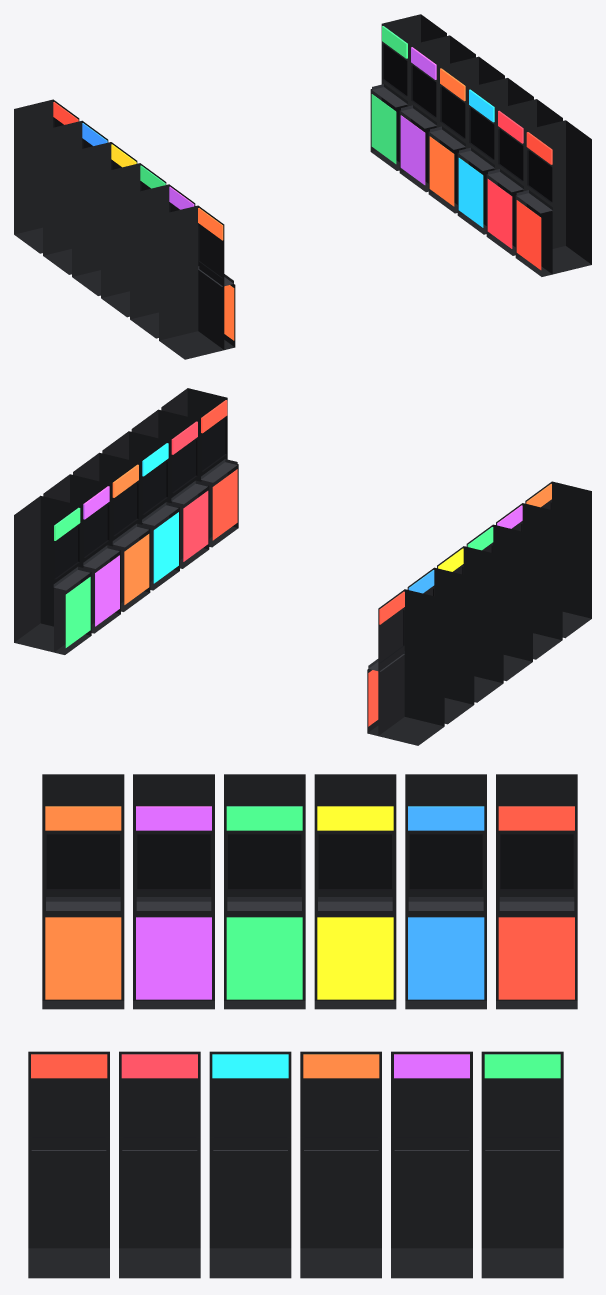
3 renders of one model, top to bottom at view 1: azimuth 30°, elevation 25°; view 2: azimuth 150°, elevation 25°; view 3: azimuth 270°, elevation 25°, orthographic. The views are drawn at different scales.
Parts seen in each view (by area): view 1: root; view 2: root; view 3: root.
Boxes of the visible parts, left/top/right/bottom form: root: left=14, top=14, right=591, bottom=359; root: left=14, top=388, right=591, bottom=745; root: left=28, top=774, right=577, bottom=1278.
Bounding box in the file's own units: 6.34 × 1.86 × 4.95.
